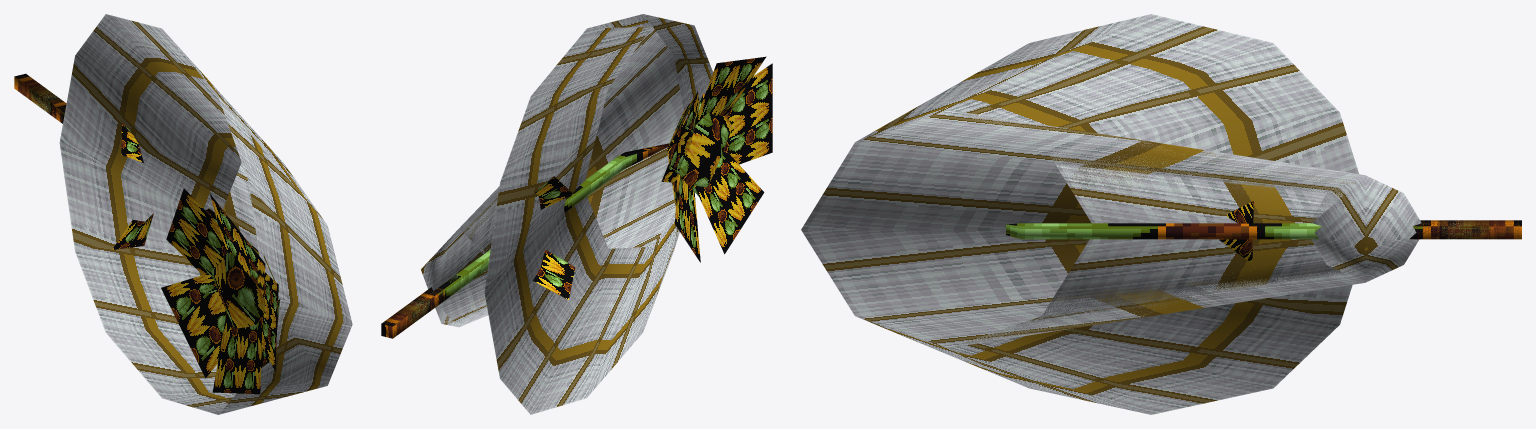
Rendered from 07_03_stick.gltf.
3 renders of one model, left to right at view 1: azimuth 30°, elevation 25°; view 2: azimuth 150°, elevation 25°; view 3: azimuth 270°, elevation 25°, orthographic. The views are drawn at different scales.
Parts seen in each view (by area): view 1: 07_03_stick; view 2: 07_03_stick; view 3: 07_03_stick.
Boxes of the visible parts, left/top/right/bottom form: 07_03_stick: left=14, top=14, right=352, bottom=414; 07_03_stick: left=381, top=14, right=772, bottom=414; 07_03_stick: left=801, top=14, right=1521, bottom=414.
Size of the model in its own units: 0.2402 by 0.761 by 1.24.
2 materials, 2 textured.
